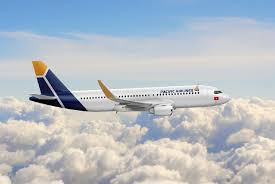maybay_dansu: (21, 61, 238, 110)
